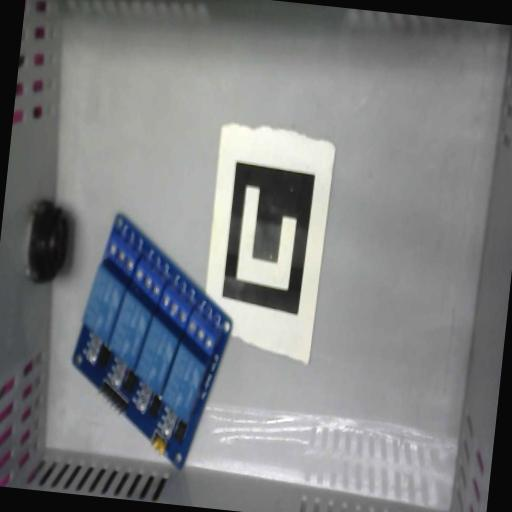QR: (198, 120, 337, 364)
relay_module: (61, 209, 244, 474)
